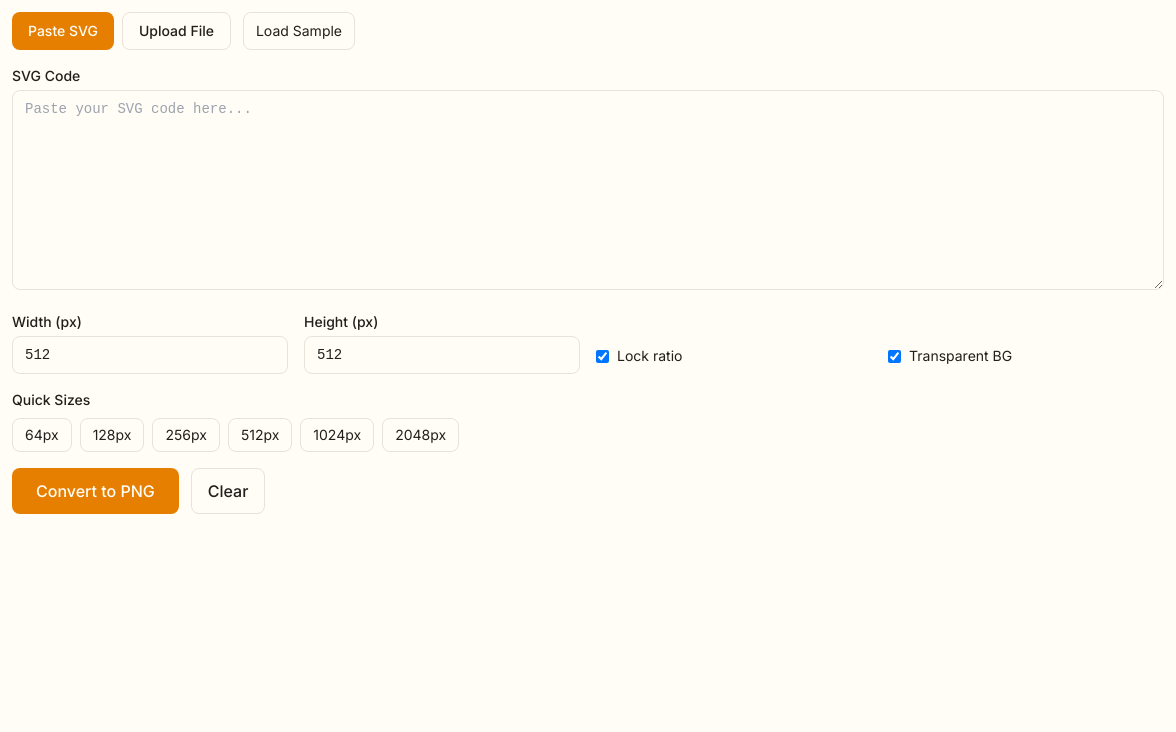
Scenario: SvgToPng › shows error when input is not valid SVG
Step 1. Type "not svg content" into the text box named "SVG code input" → (588, 190), box [12,90,1164,290]
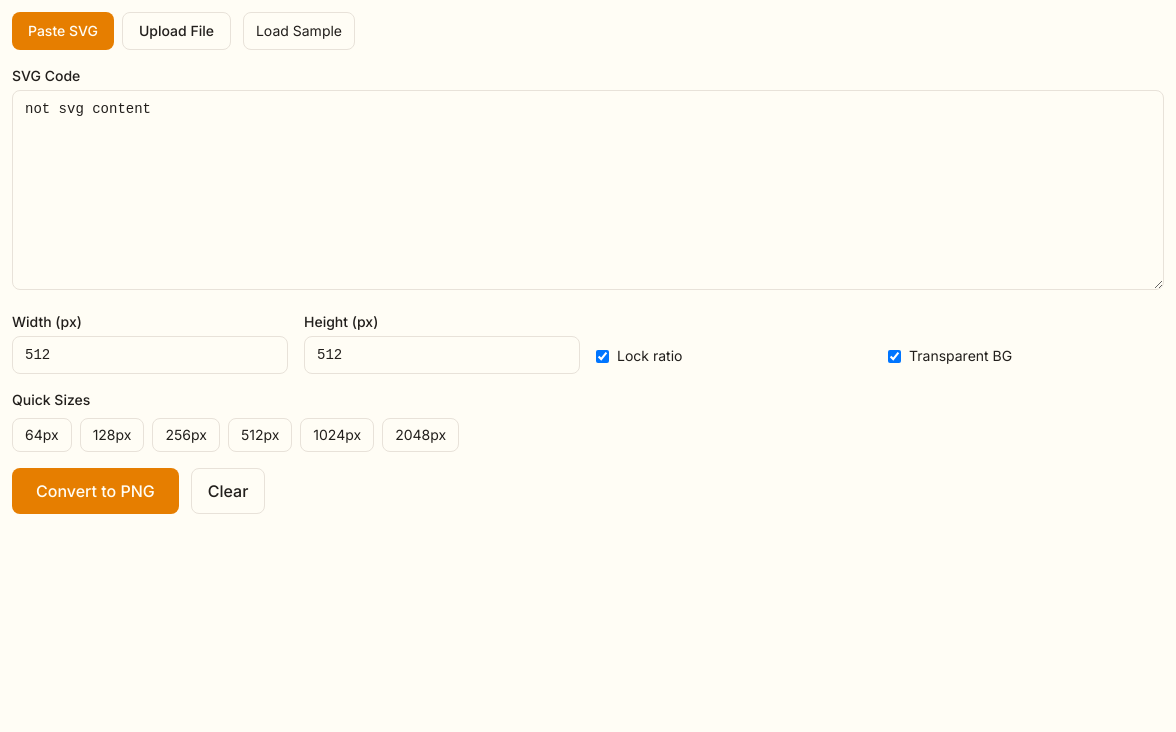
Step 2. Click the button "Convert to PNG" → (95, 491), box [12,468,179,514]
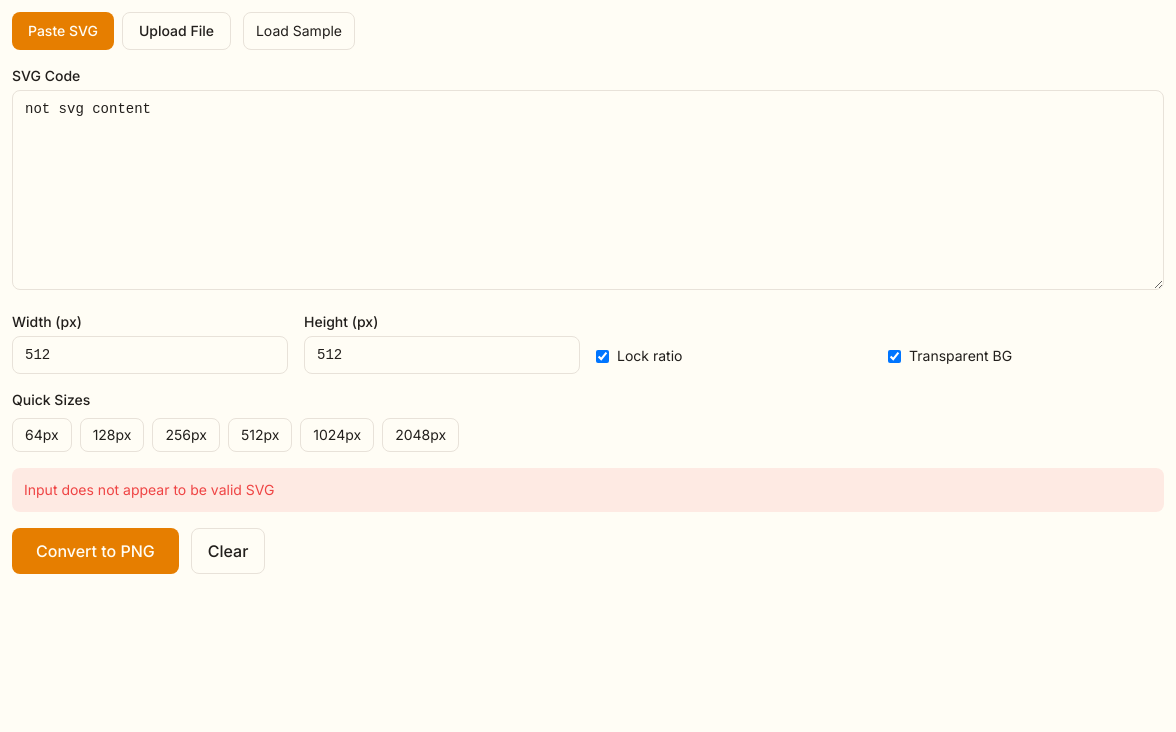
Check: the text "Input does not appear to be valid SVG" is shown, box [12,468,1164,512]
